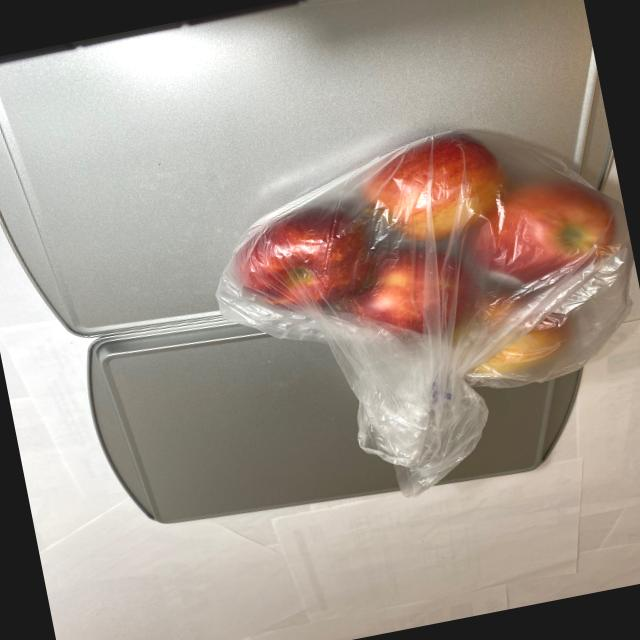apple: (210, 95, 640, 468)
